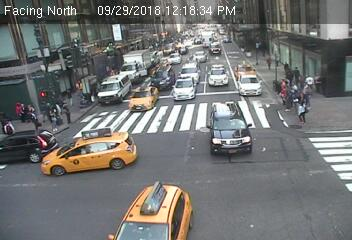car: (108, 177, 194, 240), (37, 130, 142, 173), (209, 102, 253, 158), (1, 130, 59, 163), (117, 52, 151, 84), (97, 75, 130, 105), (130, 83, 159, 112), (171, 75, 197, 104), (151, 63, 175, 90), (238, 73, 262, 98), (180, 61, 199, 84), (233, 62, 258, 79), (208, 64, 228, 85), (200, 27, 213, 49), (165, 54, 182, 66), (193, 50, 209, 62), (208, 44, 221, 54), (177, 44, 188, 54), (193, 36, 203, 46), (223, 34, 233, 44)
